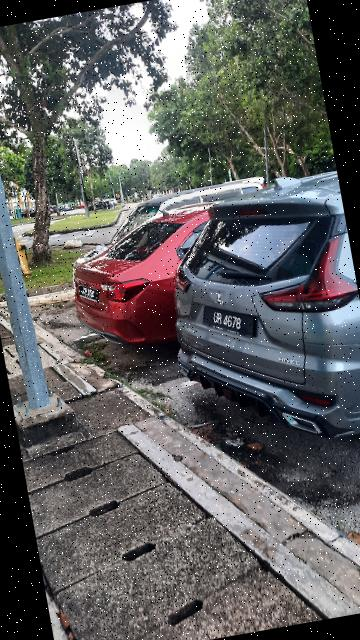License_Plate: (200, 297, 261, 348), (76, 282, 101, 308)
car: (155, 173, 360, 466), (60, 203, 230, 358)
